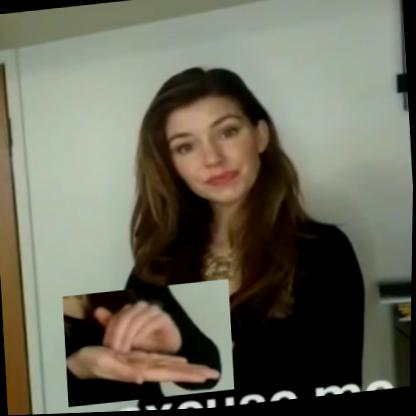ExcuseMe: (63, 281, 237, 408)
